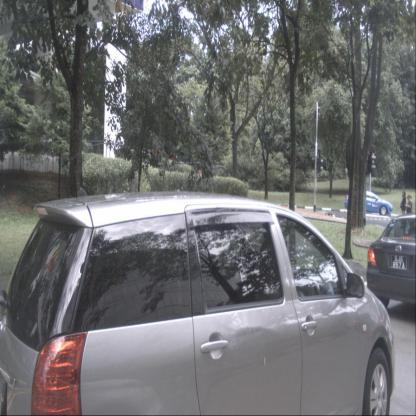human-pedestrian-adult: (399, 190, 407, 233), (405, 195, 413, 233)
vehicle-car: (0, 192, 395, 415), (366, 214, 416, 311), (343, 189, 392, 220)
